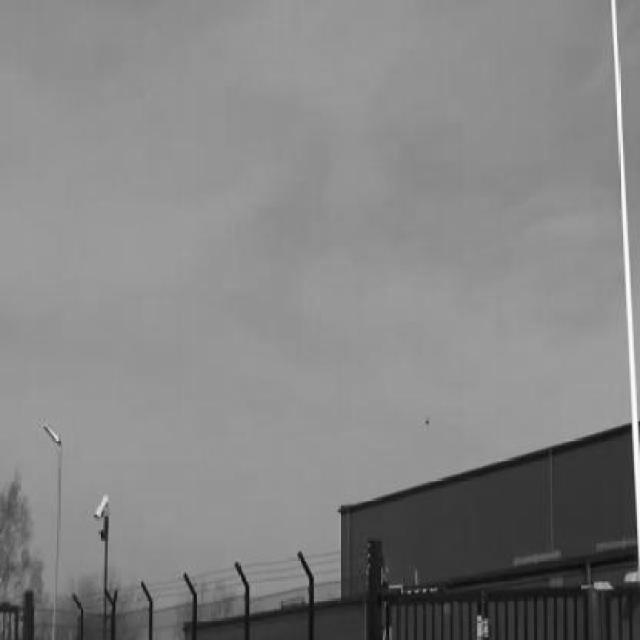helikopter: (422, 412, 433, 430)
